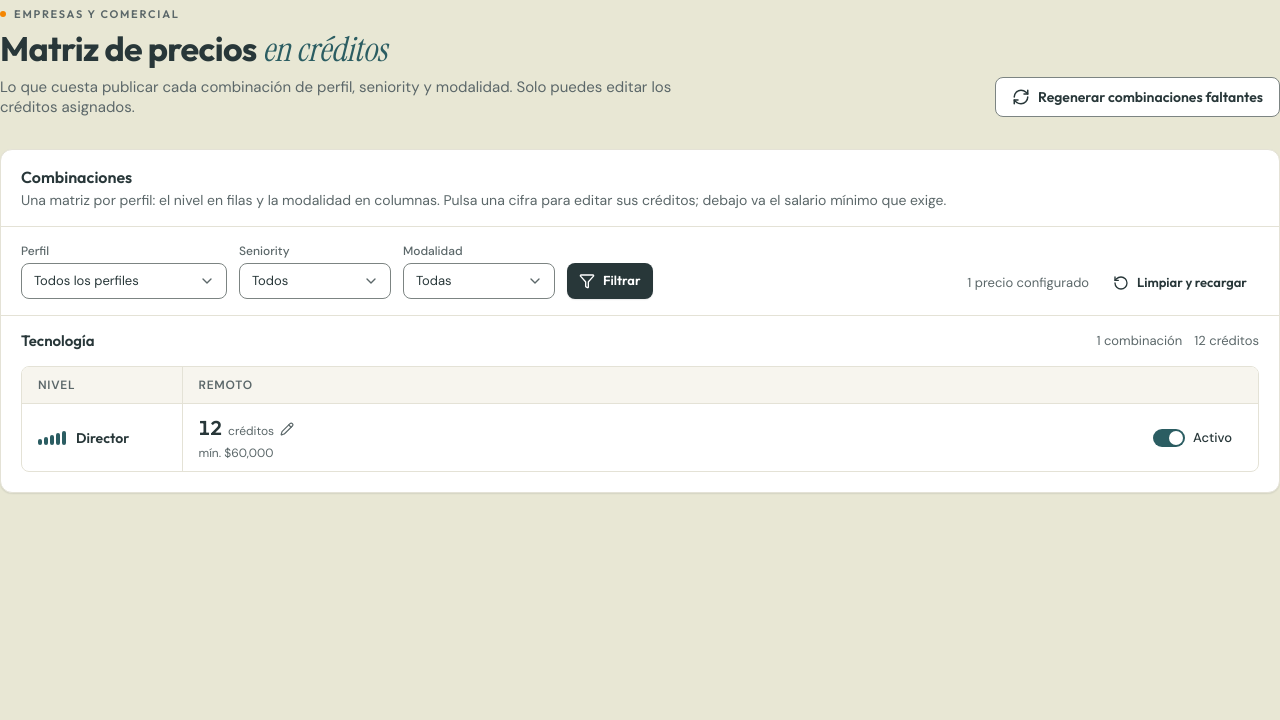
Scenario: /admin/pricing › ADM-020: desactivar pide confirmación y, si se cancela, no toca nada
The image size is (1280, 720).
Click the switch labelled "Activo" at (1196, 438), box [1149,422,1242,454]
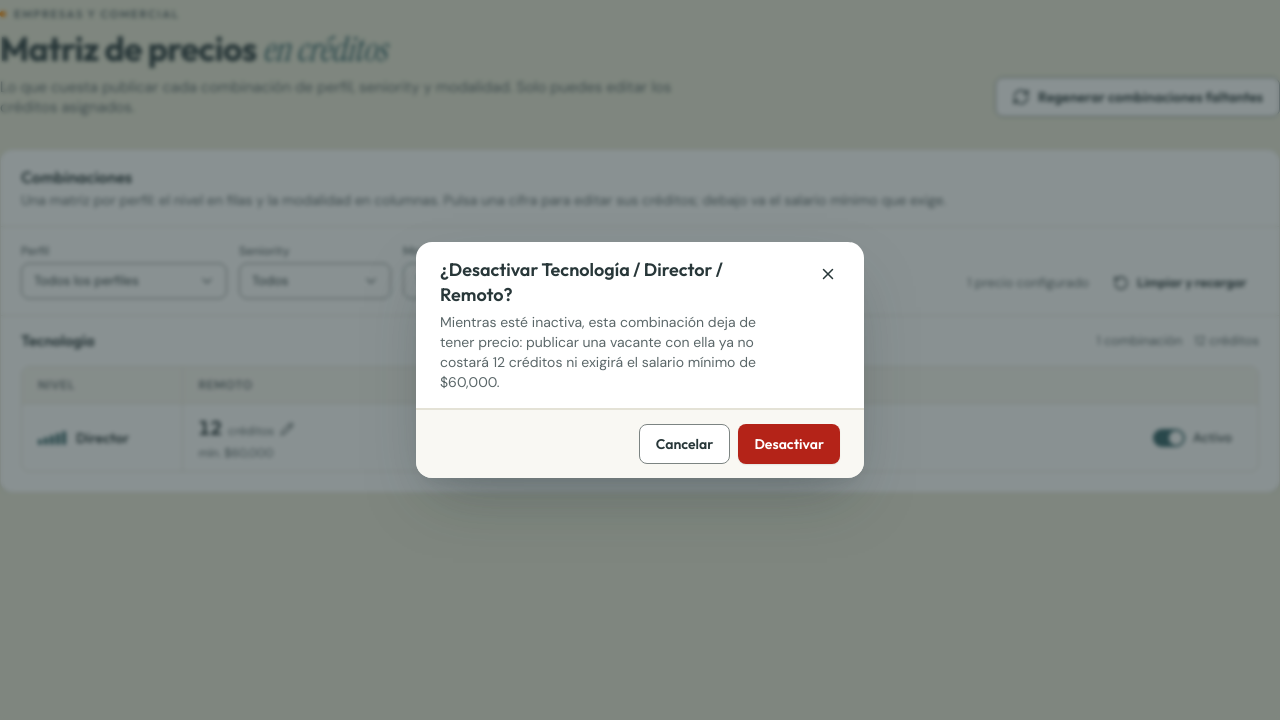
Result: the dialog shows "12 créditos" at [440,313,756,391]
Click the button "Cancelar" at (685, 444), box [639,424,730,464]
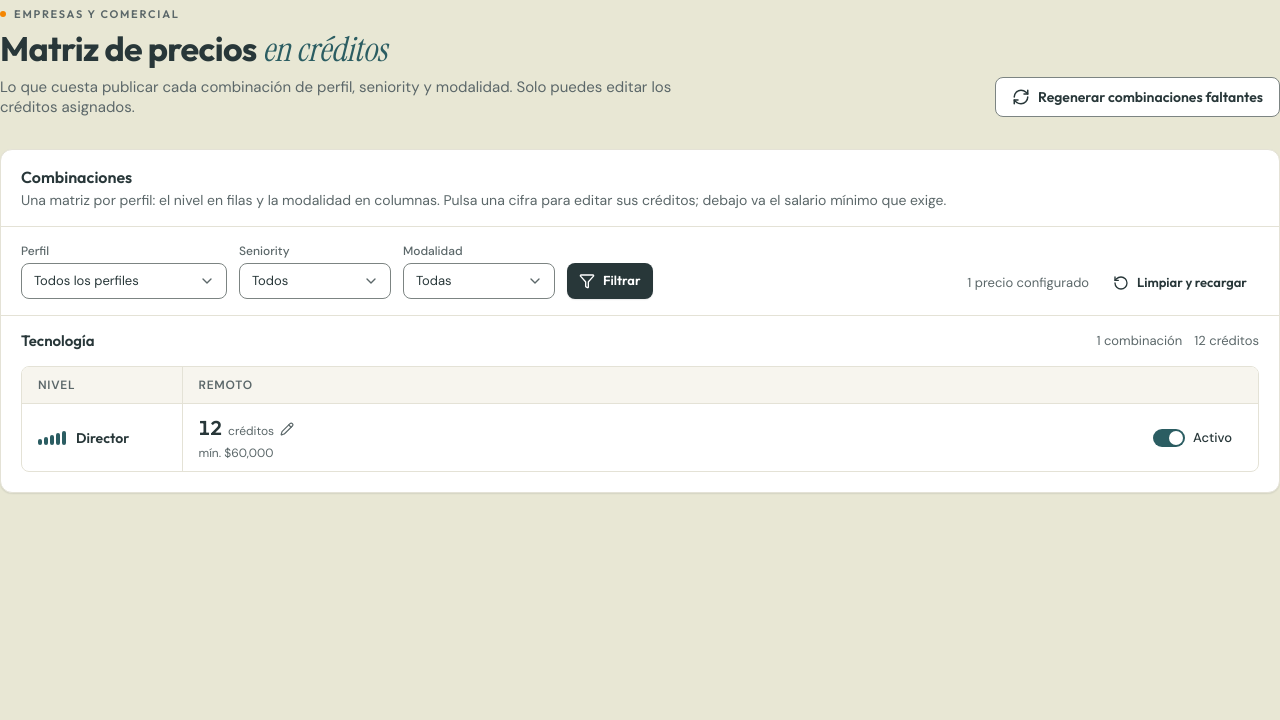
Result: the dialog is gone
